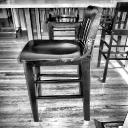chair_success: (13, 0, 111, 127)
